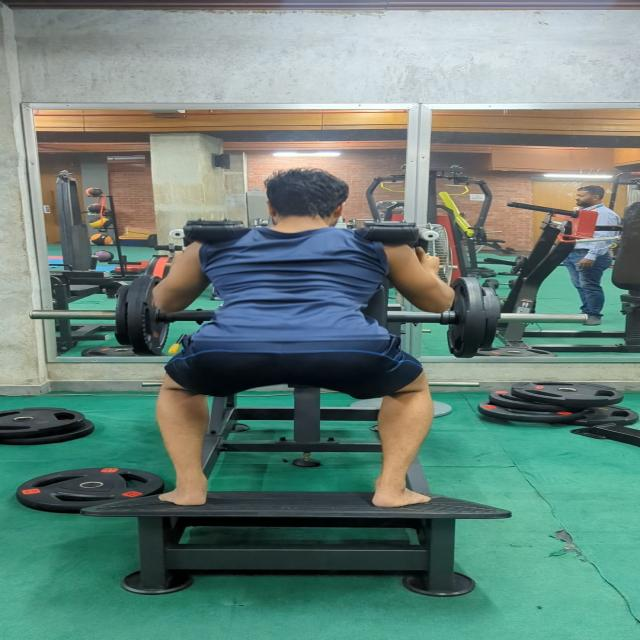Normal_SquatsWithBarbell: (102, 161, 504, 531)
